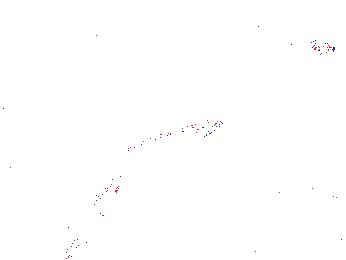X-ray fish: (67, 197, 91, 225)
glassfish: (100, 118, 223, 171), (72, 166, 130, 260)
red belly glassfish: (294, 40, 340, 58)
